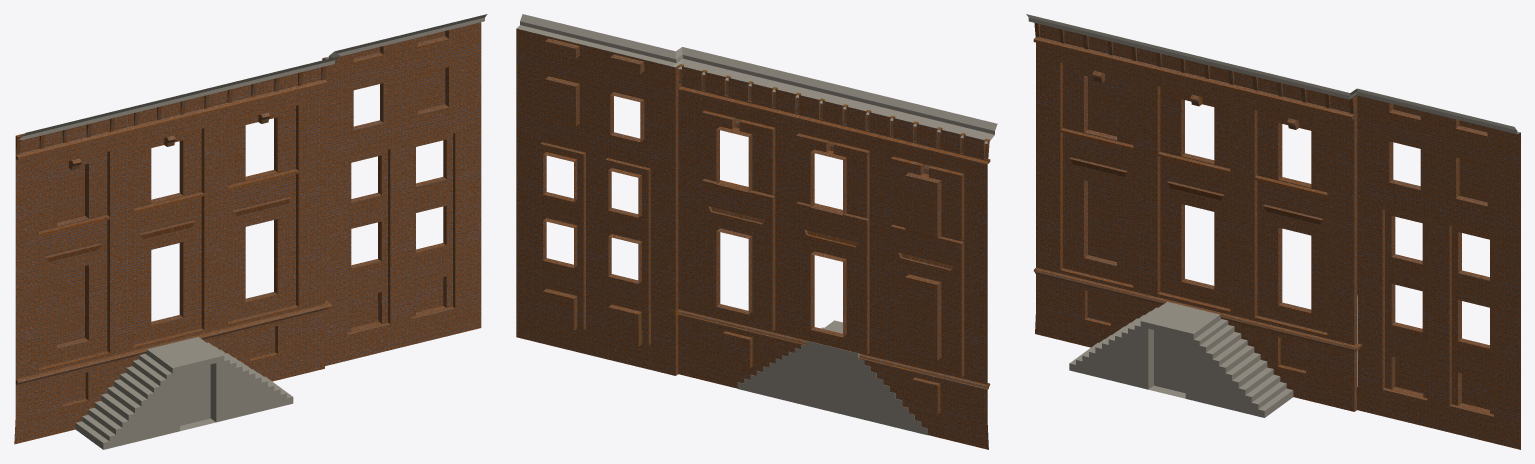
File: FACADE 13.dae
3 views of the same model, side by side, from view 1: azimuth 30°, elevation 25°; view 2: azimuth 150°, elevation 25°; view 3: azimuth 330°, elevation 25° (orthographic). The views are drawn at different scales.
Parts seen in each view (by area): view 1: FACADE, STAIRS, ROOF; view 2: FACADE, ROOF, STAIRS; view 3: FACADE, STAIRS, ROOF.
Boxes of the visible parts, x1,y1,x2,y2 form: FACADE: [14, 22, 481, 444]; STAIRS: [75, 337, 293, 449]; ROOF: [18, 14, 487, 139]; FACADE: [516, 28, 990, 449]; ROOF: [516, 14, 997, 143]; STAIRS: [737, 320, 927, 435]; FACADE: [1033, 23, 1520, 449]; STAIRS: [1069, 301, 1293, 417]; ROOF: [1026, 14, 1520, 134].
Bounding box in the file's own units: 1852 × 1200 × 248.
